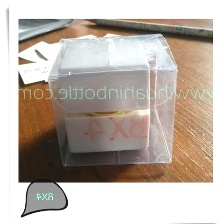plastic_box: (42, 25, 186, 174)
